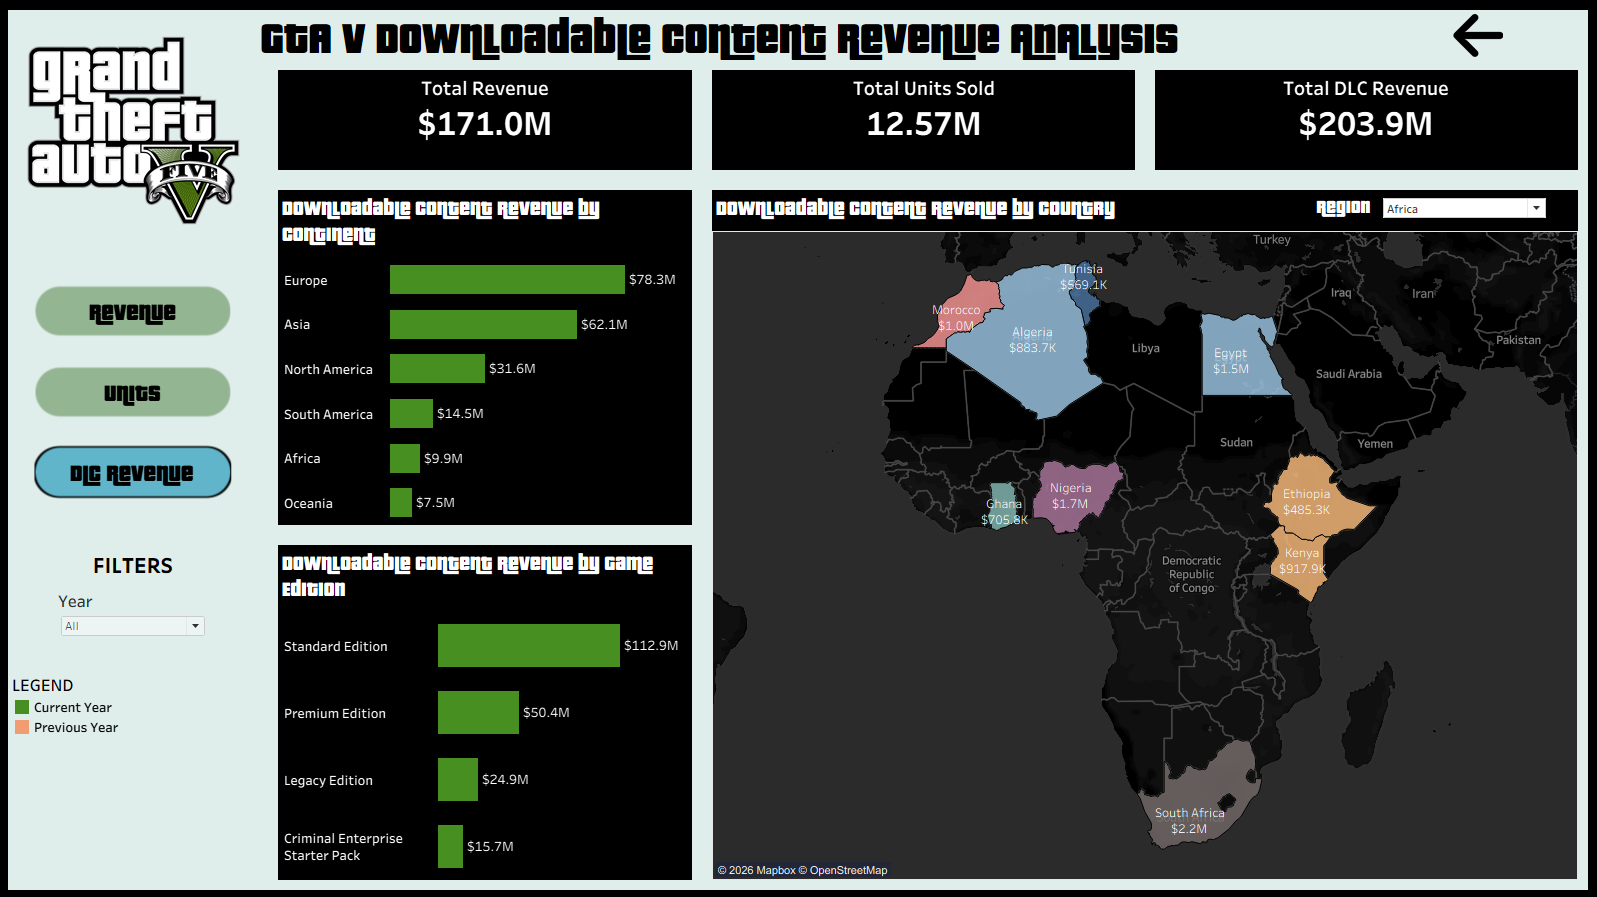

What the dashboard file says about the page in this screenshot:
{"tool":"tableau","page":{"name":"2","canvas":[1600,900],"ordinal":1},"visuals":[{"type":"blank","box":[10,10,250,20]},{"type":"text","box":[260,10,1130,50]},{"type":"dashboard-object","box":[1390,10,180,50]},{"type":"image","param":"Image/gta-v-logo-huge-transback1.png","box":[10,30,250,200]},{"type":"worksheet","title":"Revenue","mark":"Automatic","box":[280,70,414,100]},{"type":"worksheet","title":"Units Sold","mark":"Automatic","box":[714,70,423,100]},{"type":"worksheet","title":"DLC Revenue","mark":"Automatic","box":[1157,70,423,100]},{"type":"worksheet","title":"Continent","mark":"Automatic","rows":["region"],"cols":["Calculation_1156724211879937","Metric YoY (copy)_1199605215707158"],"box":[280,190,414,335]},{"type":"worksheet","title":"Country","mark":"Multipolygon","box":[714,190,866,690]},{"type":"parameter","param":"[Parameters].[Parameter 1156724221456393]","box":[1310,195,241,35]},{"type":"blank","box":[10,230,250,50]},{"type":"worksheet","title":"Buttons","mark":"Shape","rows":["Calculation_0579481005690900","Calculation_0579481005690900","Calculation_0579481005690900"],"box":[10,280,250,250]},{"type":"blank","box":[10,530,250,20]},{"type":"worksheet","title":"Game Edition","mark":"Automatic","rows":["game_edition"],"cols":["Calculation_1156724211879937","Metric YoY (copy)_1199605215707158"],"box":[280,545,414,335]},{"type":"text","box":[10,550,250,30]},{"type":"blank","box":[10,580,250,10]},{"type":"parameter","param":"[Parameters].[Parameter 1199605212127239]","box":[60,590,150,50]},{"type":"blank","box":[10,640,250,30]},{"type":"legend","title":"Game Edition","param":"[federated.11s83u20dlavxa1726apb0tvfoed].[:Measure Names]","box":[10,670,250,71]}]}

Visuals, with their boxes in screenshot pixels (x1, y1, x2, y2), scaled from the page's 1600x900 canvas onto the 1597x897 screenshot:
blank: box(10, 10, 260, 30)
text: box(260, 10, 1387, 60)
dashboard-object: box(1387, 10, 1567, 60)
image: box(10, 30, 260, 229)
"Revenue" worksheet: box(279, 70, 693, 169)
"Units Sold" worksheet: box(713, 70, 1135, 169)
"DLC Revenue" worksheet: box(1155, 70, 1577, 169)
"Continent" worksheet: box(279, 189, 693, 523)
"Country" worksheet (Multipolygon marks): box(713, 189, 1577, 877)
parameter: box(1308, 194, 1548, 229)
blank: box(10, 229, 260, 279)
"Buttons" worksheet (Shape marks): box(10, 279, 260, 528)
blank: box(10, 528, 260, 548)
"Game Edition" worksheet: box(279, 543, 693, 877)
text: box(10, 548, 260, 578)
blank: box(10, 578, 260, 588)
parameter: box(60, 588, 210, 638)
blank: box(10, 638, 260, 668)
"Game Edition" legend: box(10, 668, 260, 739)
